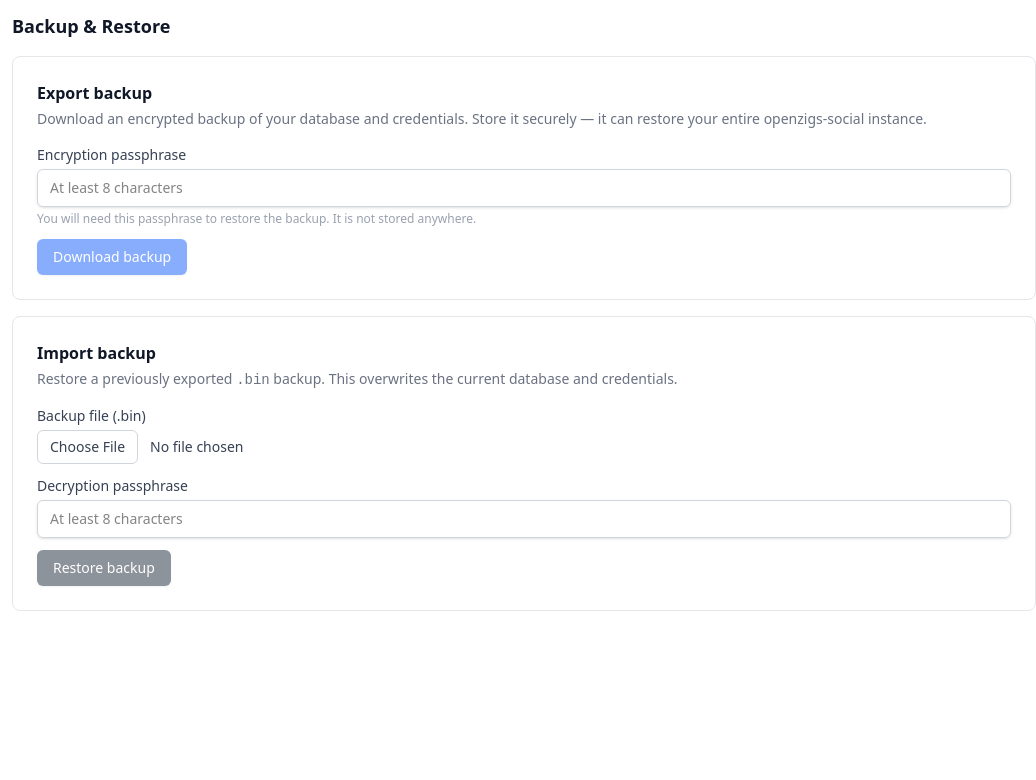
Test: BackupSection - ExportCard › enables download button when passphrase is >= 8 chars
In the password field labelled "Encryption passphrase": (524, 188) [37,169,1011,207], type "longenough"
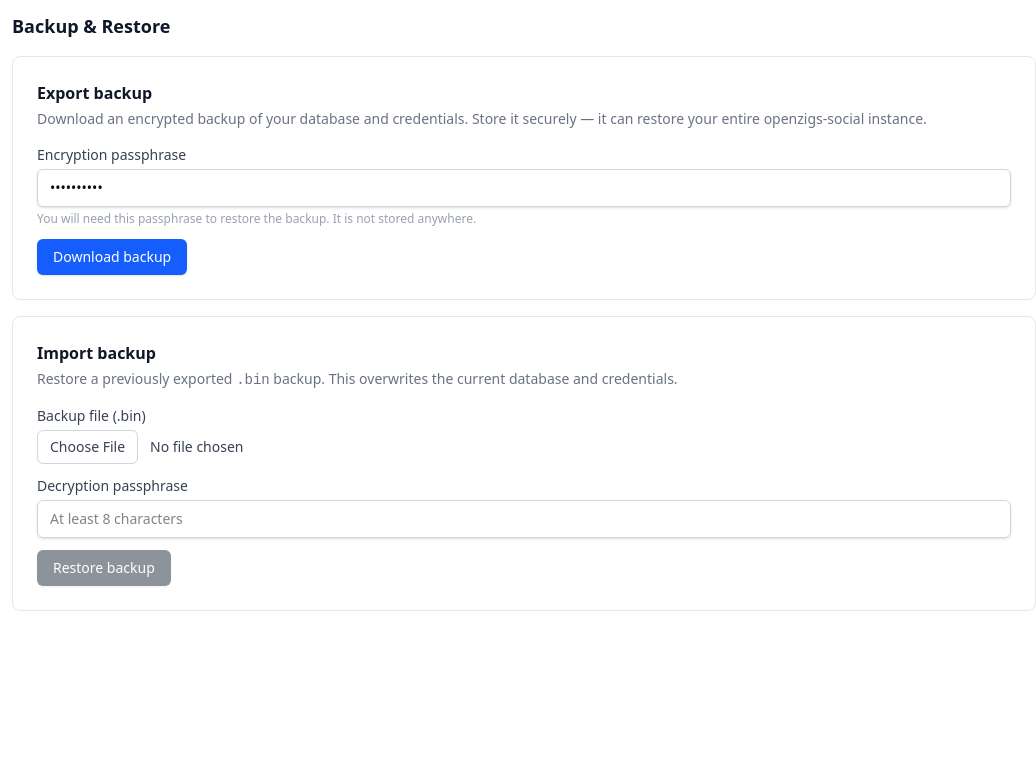
Expected: the button "Download backup" is enabled, [37,239,187,275]
